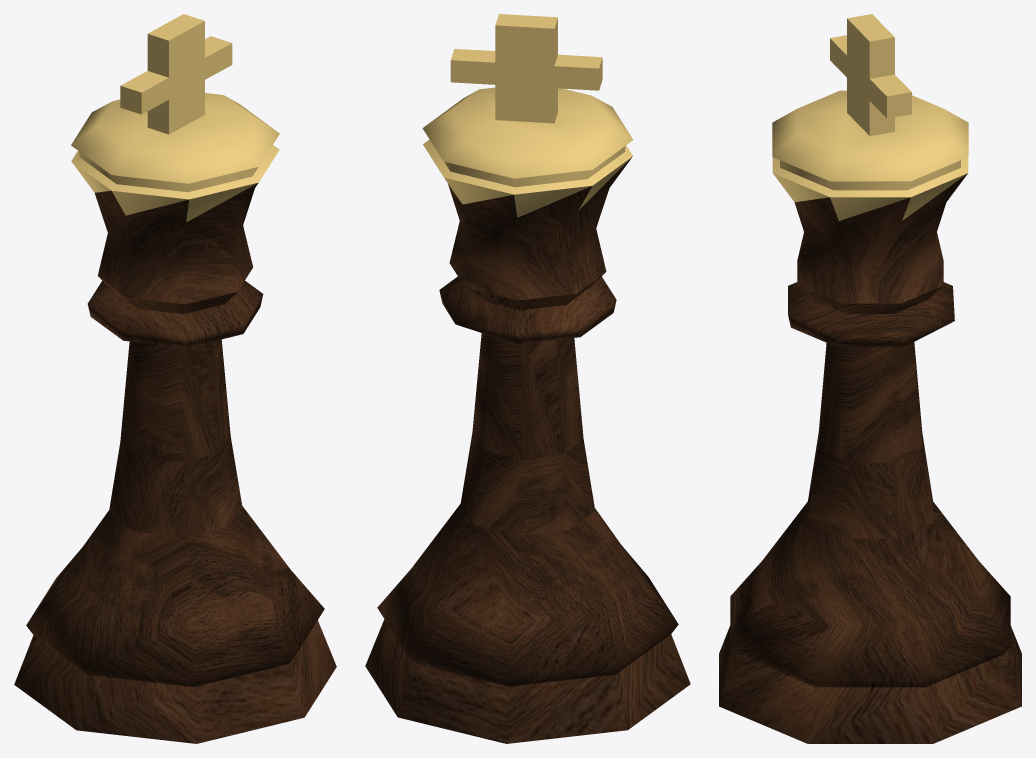
The model's file is gercek4_k_b.glb.
3 views of the same model, side by side, from view 1: azimuth 30°, elevation 25°; view 2: azimuth 150°, elevation 25°; view 3: azimuth 270°, elevation 25° (orthographic).
Visible parts, largest first — view 1: k; view 2: k; view 3: k.
Part boxes in pixels (x1,y1,x2,y2): k: (14,14,336,743); k: (365,14,690,743); k: (719,14,1021,743).
Bounding box in the file's own units: 0.3785 × 0.9 × 0.3785.
2 materials, 1 textured.
